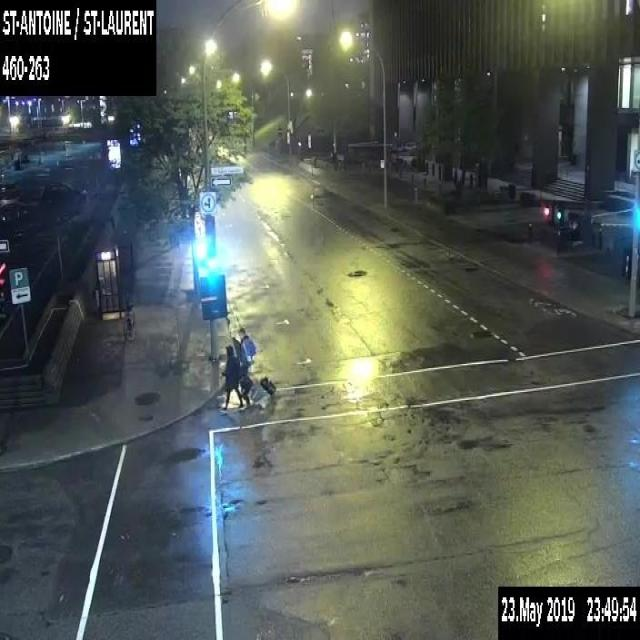pedestrian: (236, 327, 275, 410), (220, 344, 242, 411)
vehicle: (40, 179, 86, 204)
